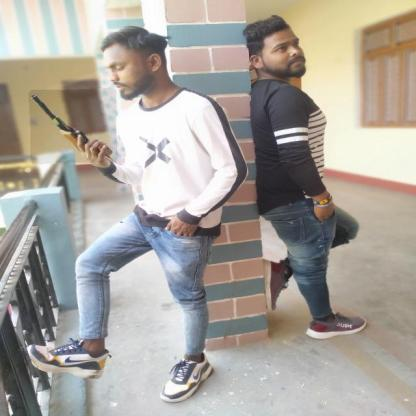handgun: (30, 89, 118, 164)
